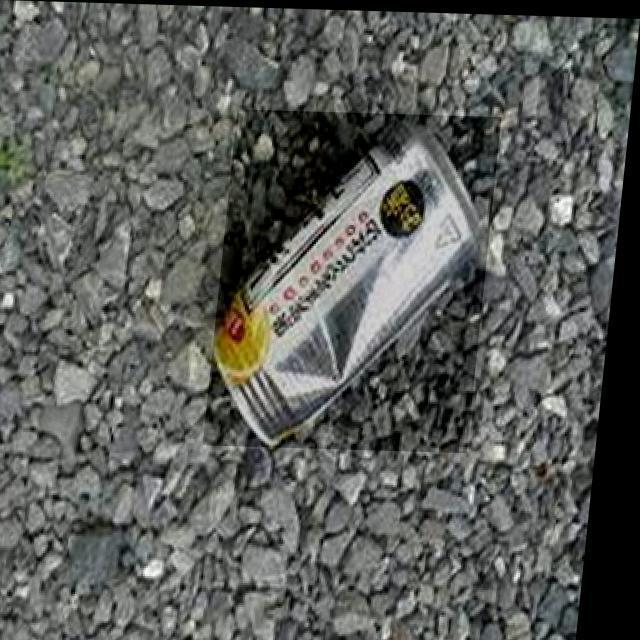trash: (212, 108, 503, 450)
